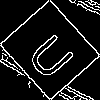U: (25, 25, 84, 83)
